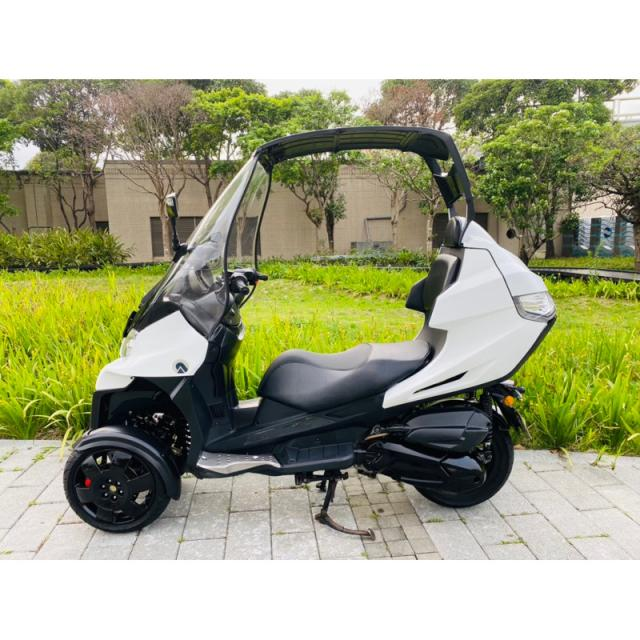Bike: (62, 126, 558, 535)
